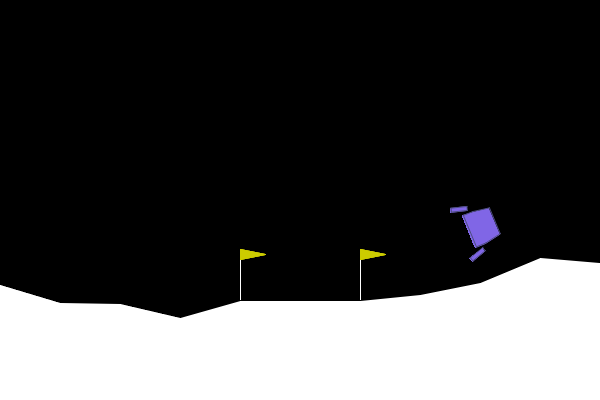lander: (448, 193, 508, 263)
